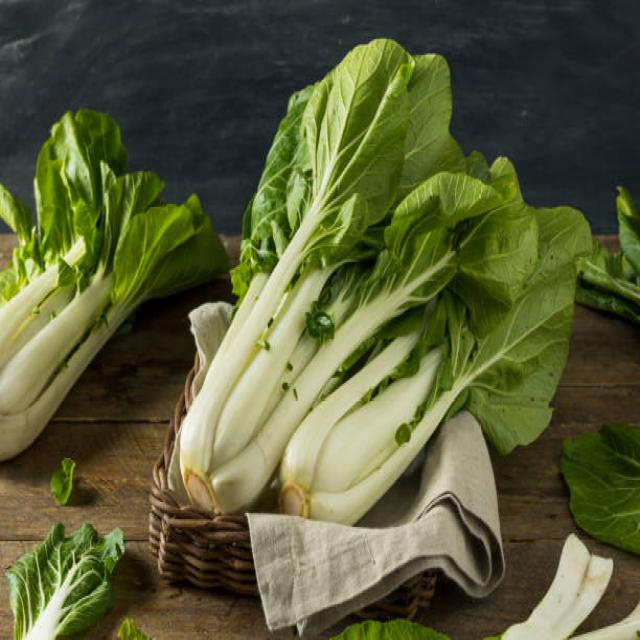bok choy: (0, 113, 149, 460), (255, 98, 461, 292), (351, 299, 561, 416)
